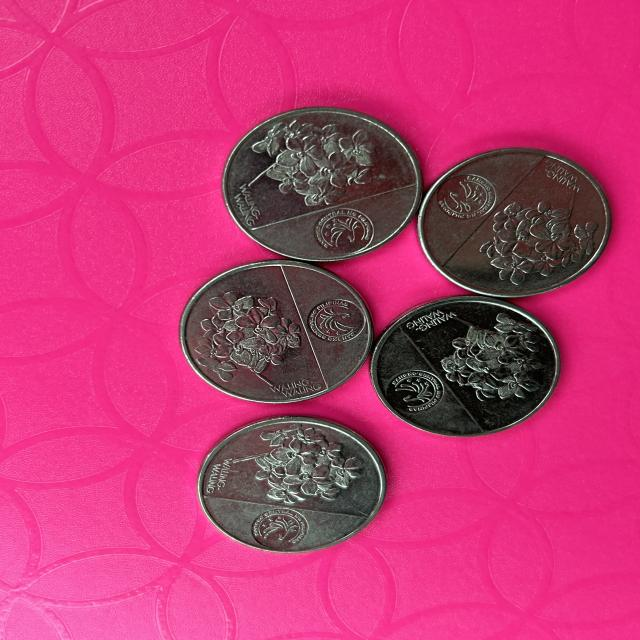1_New_Back: (240, 413, 369, 516), (234, 119, 386, 206), (182, 291, 310, 394), (432, 310, 547, 410), (479, 193, 602, 278)
